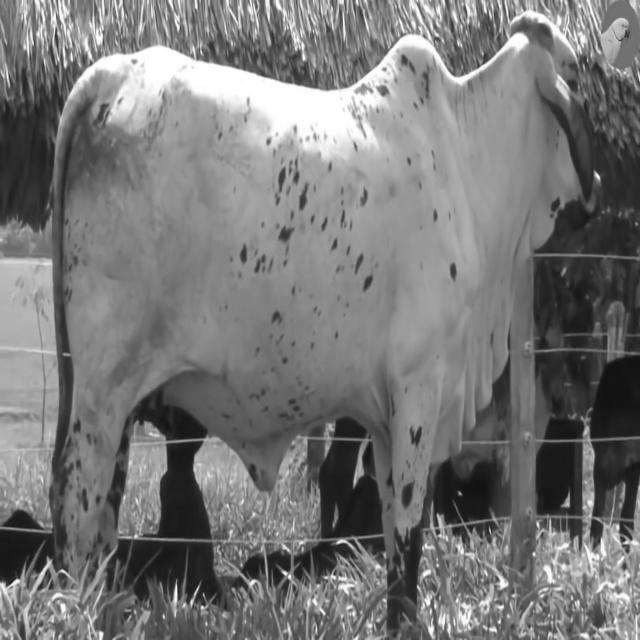cow: (52, 12, 599, 628)
